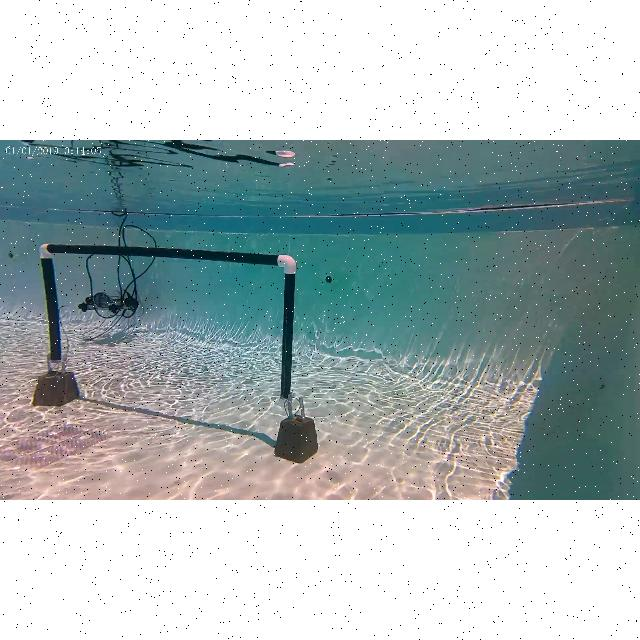prequal gate: (39, 243, 297, 401)
prequal gate leg l: (38, 240, 72, 370)
prequal gate leg r: (273, 249, 299, 406)
